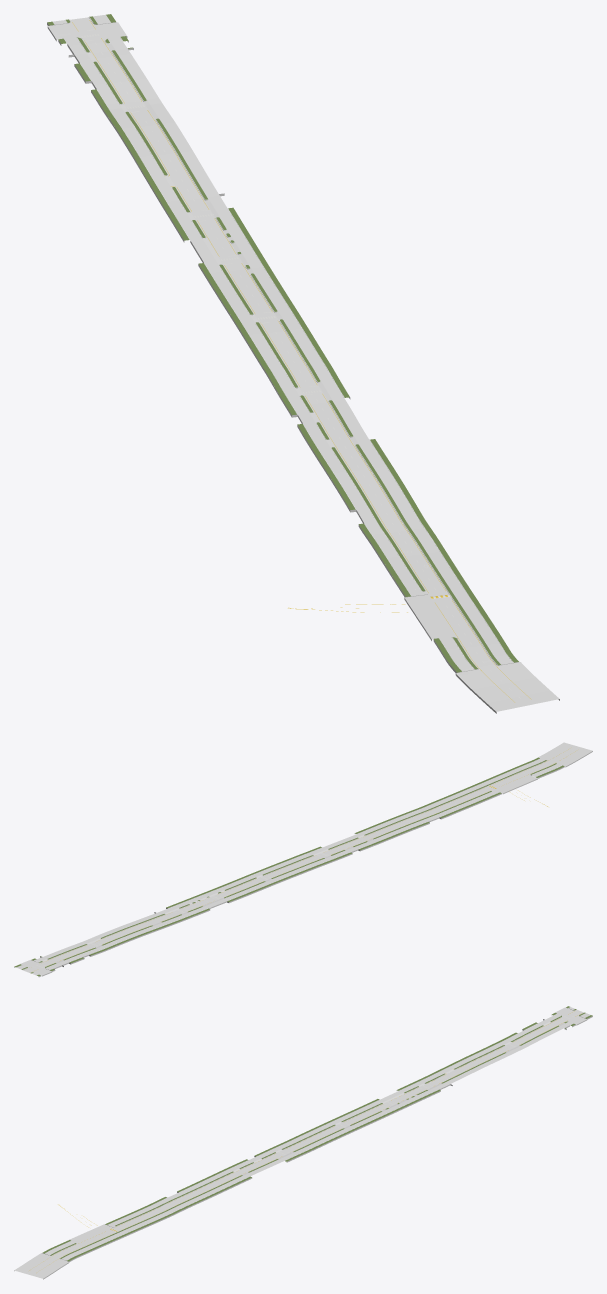
File: baekyangro.glb
3 renders of one model, top to bottom at view 1: azimuth 30°, elevation 25°; view 2: azimuth 150°, elevation 25°; view 3: azimuth 330°, elevation 25°, orthographic. The views are drawn at different scales.
Visible parts, largest first — view 1: baekyangro, baekyangro_paint; view 2: baekyangro; view 3: baekyangro.
Boxes of the visible parts, x1=… form: baekyangro: x1=47, y1=14, x2=559, y2=713; baekyangro_paint: x1=72, y1=20, x2=531, y2=702; baekyangro: x1=14, y1=742, x2=592, y2=977; baekyangro: x1=14, y1=1006, x2=592, y2=1279.
Size of the model in its own units: 187 by 16.36 by 567.
